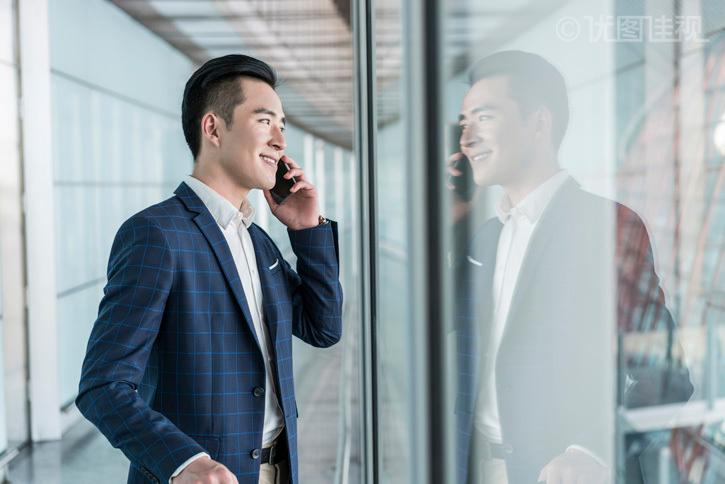calling: (260, 148, 321, 227)
